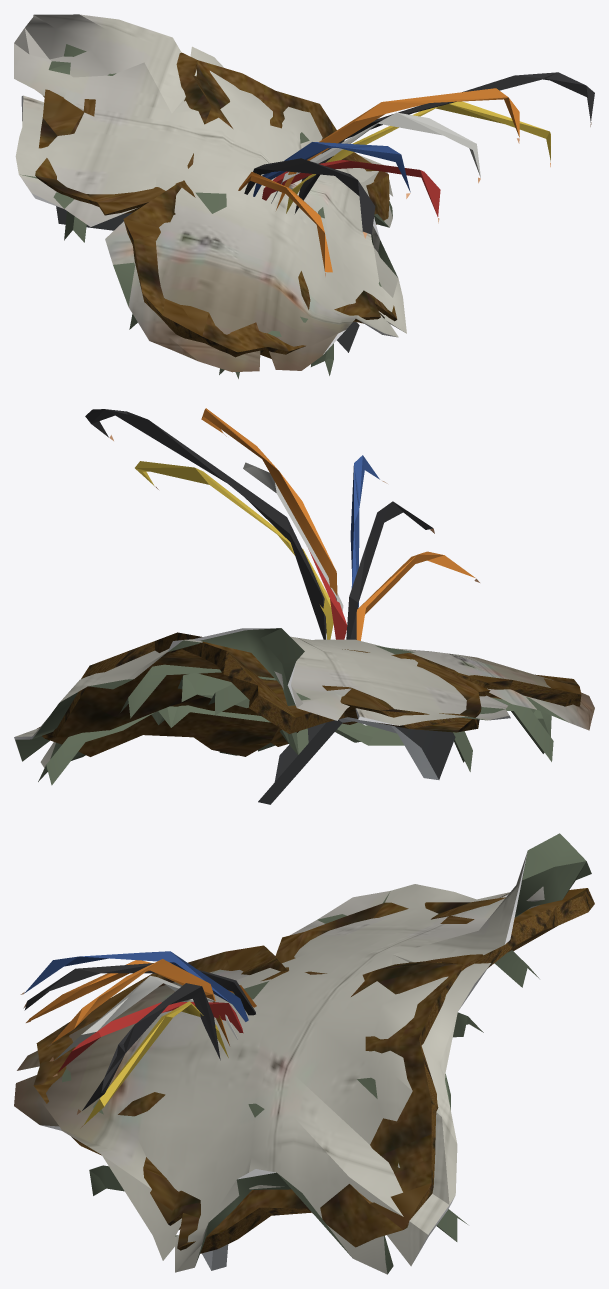
File: capsule_impact_fragment_lod2.glb
3 renders of one model, top to bottom at view 1: azimuth 30°, elevation 25°; view 2: azimuth 150°, elevation 25°; view 3: azimuth 270°, elevation 25°, orthographic. The views are drawn at different scales.
Parts seen in each view (by area): view 1: capsule_impact_fragment; view 2: capsule_impact_fragment; view 3: capsule_impact_fragment.
Part boxes in pixels (x1,y1,x2,y2): capsule_impact_fragment: (14,14,594,378); capsule_impact_fragment: (14,408,594,804); capsule_impact_fragment: (14,833,594,1274).
Size of the model in its own units: 1.17 by 0.6719 by 1.05.
Materials: 13 (2 with a texture image).
